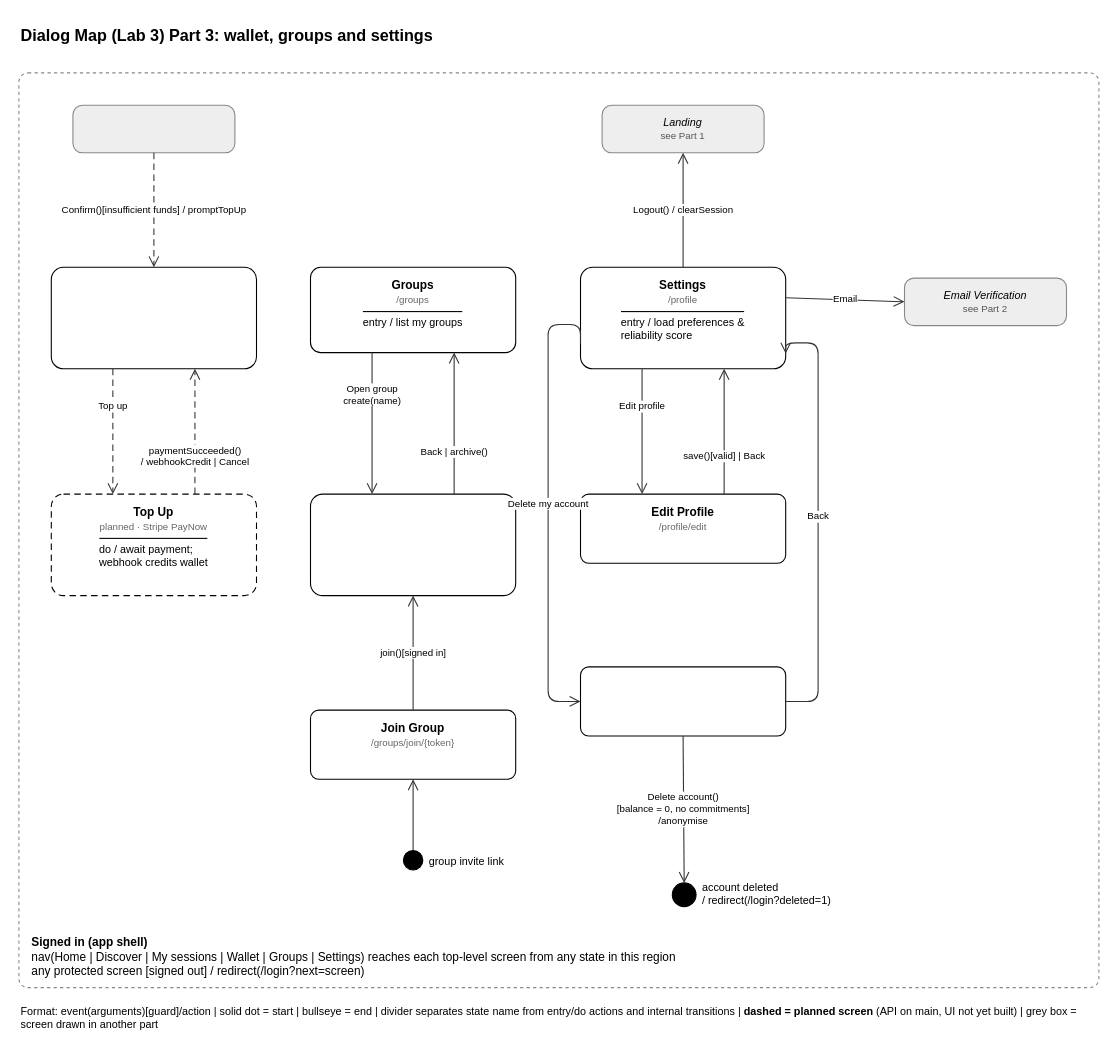
This 1118x1055 diagram has some shape labels left out. Here are the shapes that lost their labels. From the top down, the box of each, then its label:
(72, 104, 235, 153): Join Confirmation see Part 1
(50, 266, 256, 369): Wallet /wallet entry / query available balance, held funds & tx history
(309, 493, 516, 596): Group Details /groups/{id} entry / list members & invitation link
(579, 666, 786, 736): Delete Account /profile/delete
